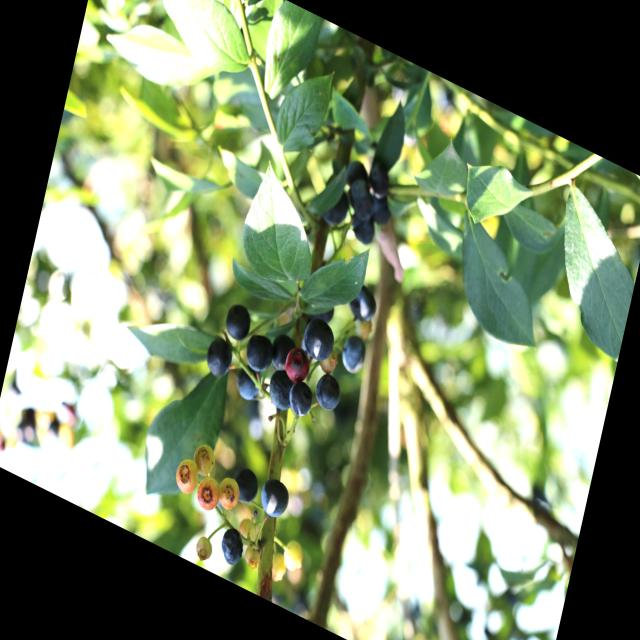blueberry: (252, 465, 297, 532), (311, 172, 355, 239), (296, 308, 341, 371), (260, 360, 302, 423), (226, 353, 268, 415), (343, 275, 385, 337), (237, 322, 280, 382), (212, 517, 253, 577), (219, 291, 259, 351), (308, 362, 348, 422), (341, 170, 380, 229), (228, 455, 267, 512), (200, 329, 238, 387), (335, 325, 372, 384), (281, 370, 318, 428), (266, 324, 303, 381), (343, 201, 379, 255), (363, 152, 397, 206), (368, 192, 399, 234), (340, 148, 370, 190)
blueberry-halfripe: (280, 342, 314, 390)
blueberry-unripe: (171, 453, 203, 501), (189, 438, 218, 481), (194, 472, 222, 516), (214, 473, 242, 516), (278, 535, 305, 576), (266, 549, 290, 586), (237, 514, 258, 547), (241, 542, 263, 572), (194, 533, 215, 563)
